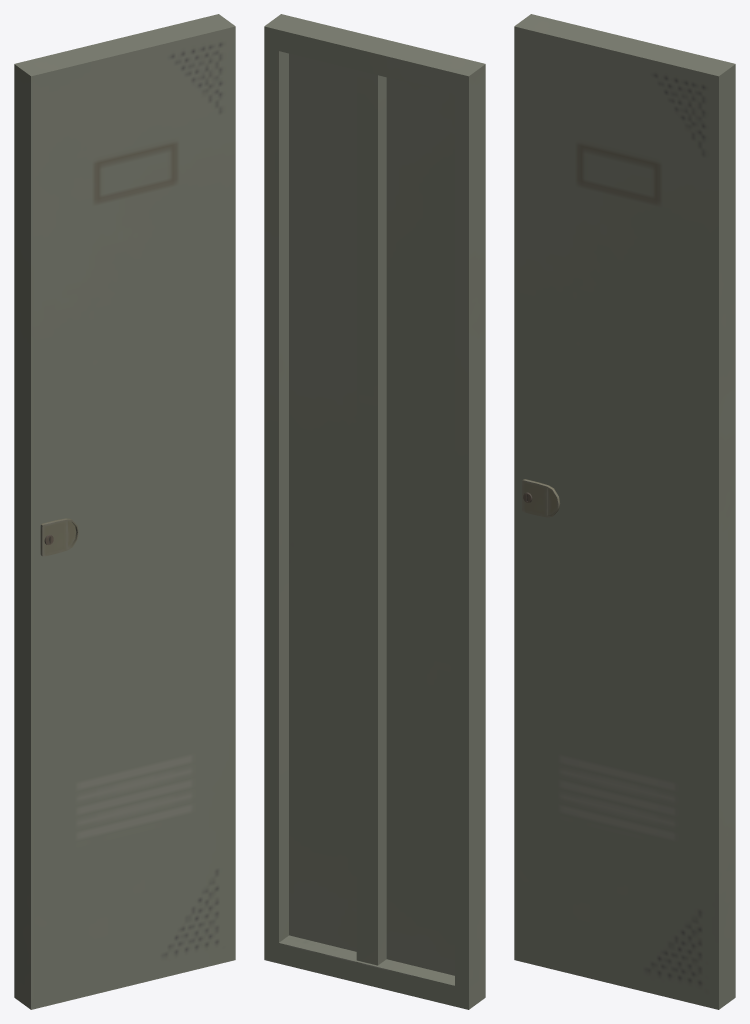
The model's file is cabinet_a_2.fbx.
3 renders of one model, left to right at view 1: azimuth 30°, elevation 25°; view 2: azimuth 150°, elevation 25°; view 3: azimuth 330°, elevation 25°, orthographic.
Visible parts, largest first — view 1: Object226; view 2: Object226; view 3: Object226.
Part boxes in pixels (x1,y1,x2,y2): Object226: (14, 14, 235, 1009); Object226: (264, 14, 485, 1009); Object226: (514, 14, 735, 1009).
Size of the model in its own units: 39.53 by 6.59 by 172.
